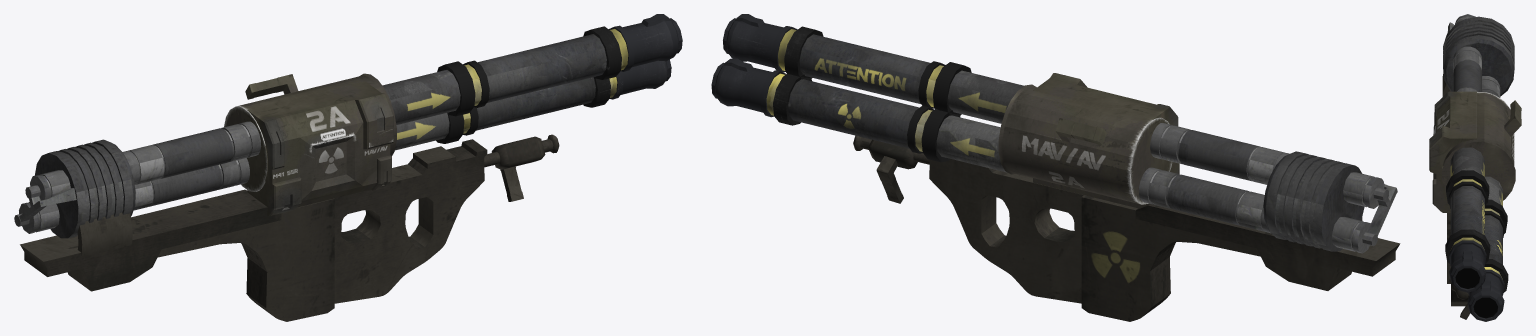
File: RocketLauncher.obj
The picture shows the model from 3 angles, left to right: view 1: azimuth 30°, elevation 25°; view 2: azimuth 150°, elevation 25°; view 3: azimuth 270°, elevation 25°; orthographic projection. The views are drawn at different scales.
Visible parts, largest first — view 1: polySurface3 group1, group1 polySurface4, group1 polySurface19; view 2: group1 polySurface4, polySurface3 group1, group1 polySurface19; view 3: group1 polySurface4, group1 polySurface19, polySurface3 group1.
Boxes of the visible parts, left/top/right/bottom form: polySurface3 group1: left=20, top=134, right=559, bottom=321; group1 polySurface4: left=14, top=14, right=682, bottom=238; group1 polySurface19: left=224, top=73, right=396, bottom=215; group1 polySurface4: left=711, top=14, right=1397, bottom=253; polySurface3 group1: left=853, top=135, right=1400, bottom=321; group1 polySurface19: left=998, top=73, right=1179, bottom=208; group1 polySurface4: left=1443, top=14, right=1514, bottom=321; group1 polySurface19: left=1429, top=91, right=1521, bottom=212; polySurface3 group1: left=1442, top=73, right=1470, bottom=319.
Bounding box in the file's own units: 11.01 × 3.38 × 1.67.
Materials: 3 (3 with a texture image).
